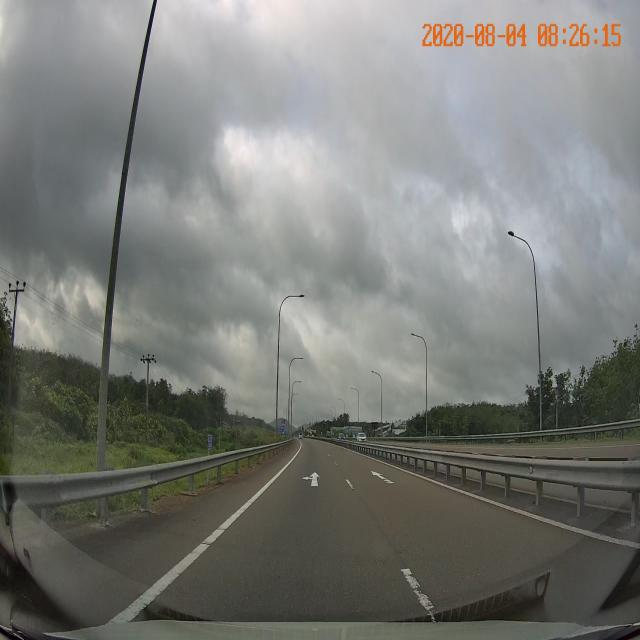Strelka vpered: (370, 469, 397, 485)
Strelka vpered - vlevo: (300, 470, 321, 488)
